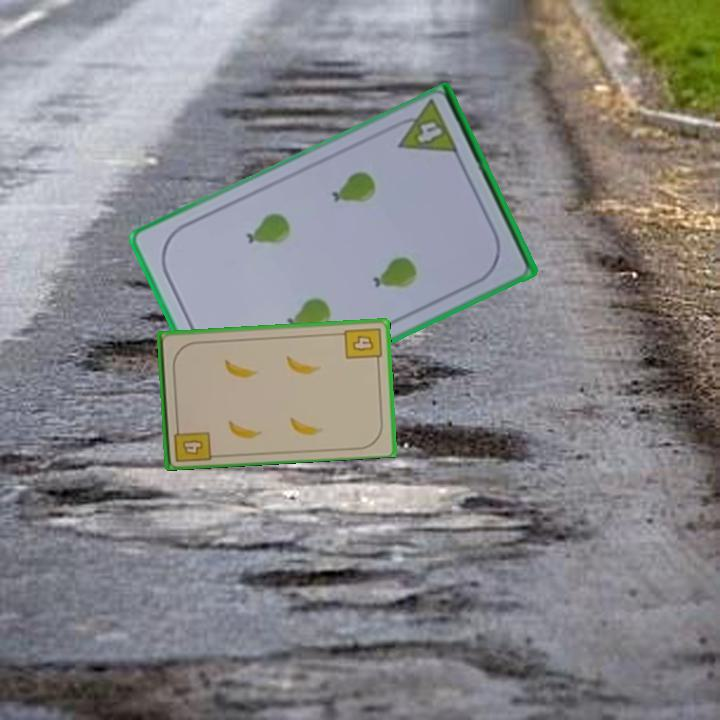4b: (170, 420, 213, 464), (341, 324, 384, 367)
4p: (387, 98, 462, 159)
